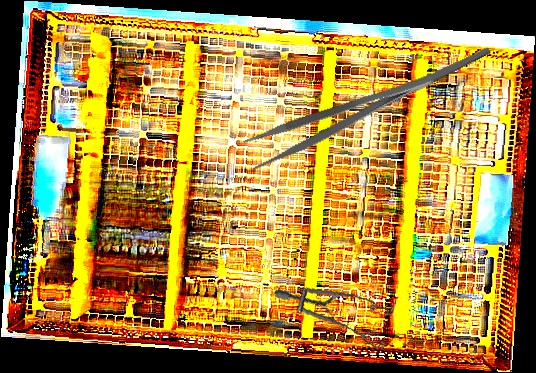Dressing Forceps: (241, 68, 443, 173)
Speculum: (273, 269, 403, 368)
Surgical Spoon: (315, 44, 493, 139)
